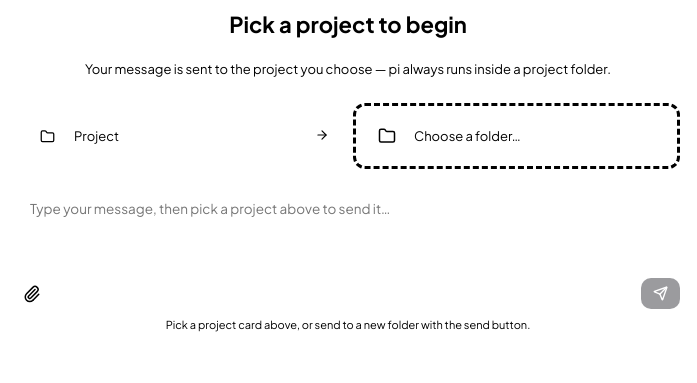
Test: startup project prompt › renders attachment chips with thumbnails and removes them
Click the button with class "add". click: (32, 294)
box: [16,278,48,310]
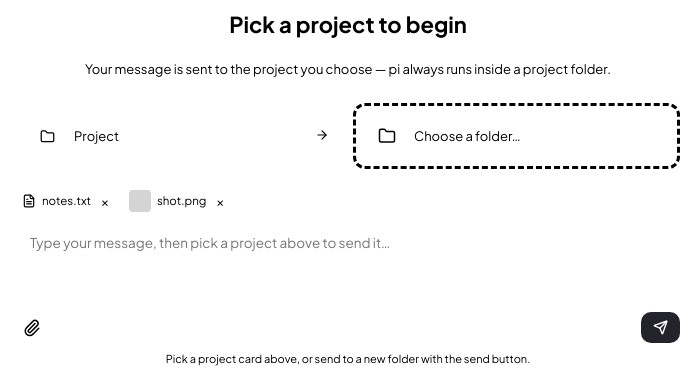
expect the number of elements with class "chip" is 2: met, box [22,193,113,208]; [123,187,232,215]
Click the button "×" next to "notes.txt". click: (105, 201)
box: [97,195,113,208]
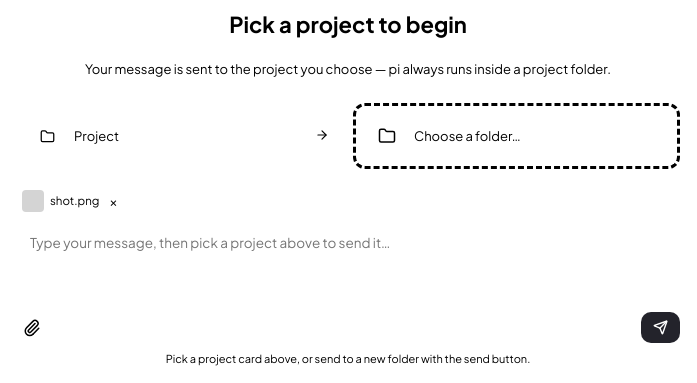
expect the text "shot.png" is shown: met, box [50,192,100,210]
expect the number of elements with class "chip" is 1: met, box [16,187,125,215]
expect the text "notes.txt" is gone: met
